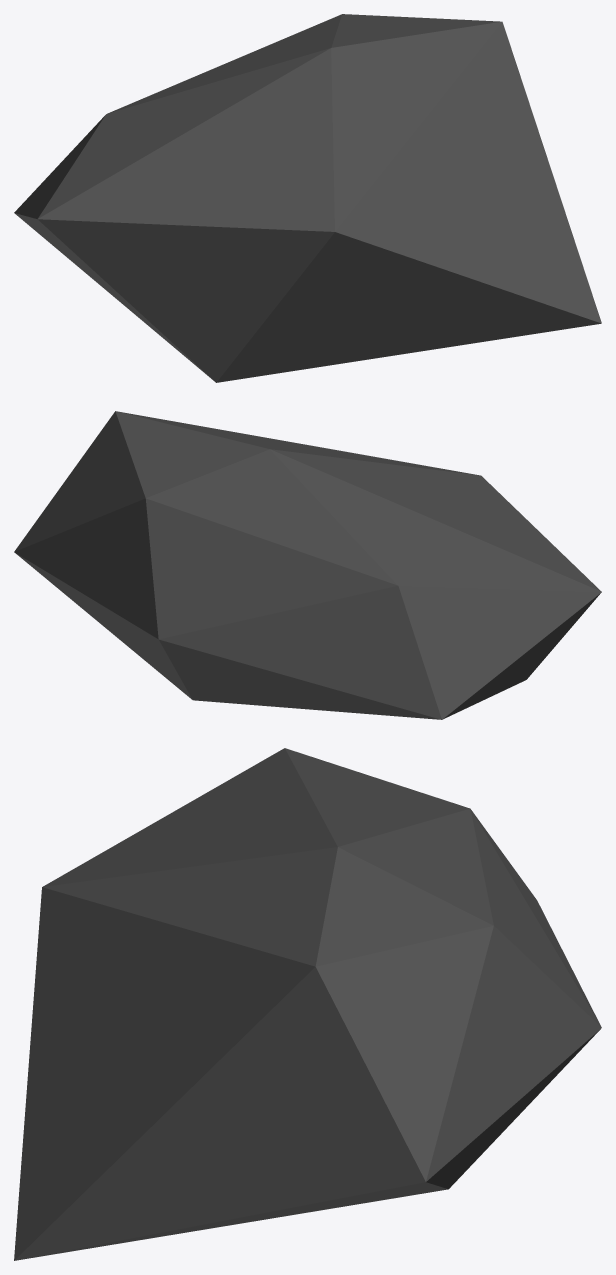
Rendered from Rock_03.fbx.
The picture shows the model from 3 angles, top to bottom: view 1: azimuth 30°, elevation 25°; view 2: azimuth 150°, elevation 25°; view 3: azimuth 270°, elevation 25°; orthographic projection. The views are drawn at different scales.
Parts seen in each view (by area): view 1: Rock_03; view 2: Rock_03; view 3: Rock_03.
Part boxes in pixels (x1,y1,x2,y2): Rock_03: [14, 14, 601, 382]; Rock_03: [14, 411, 601, 719]; Rock_03: [14, 748, 601, 1260].
Size of the model in its own units: 2.44 by 1.03 by 1.68.
